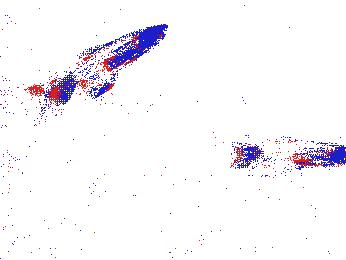redtail glassfish: (48, 24, 167, 107), (226, 136, 346, 176)
